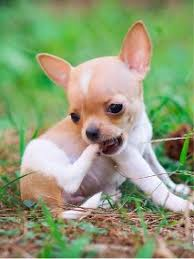chihuahua: (21, 17, 186, 216)
